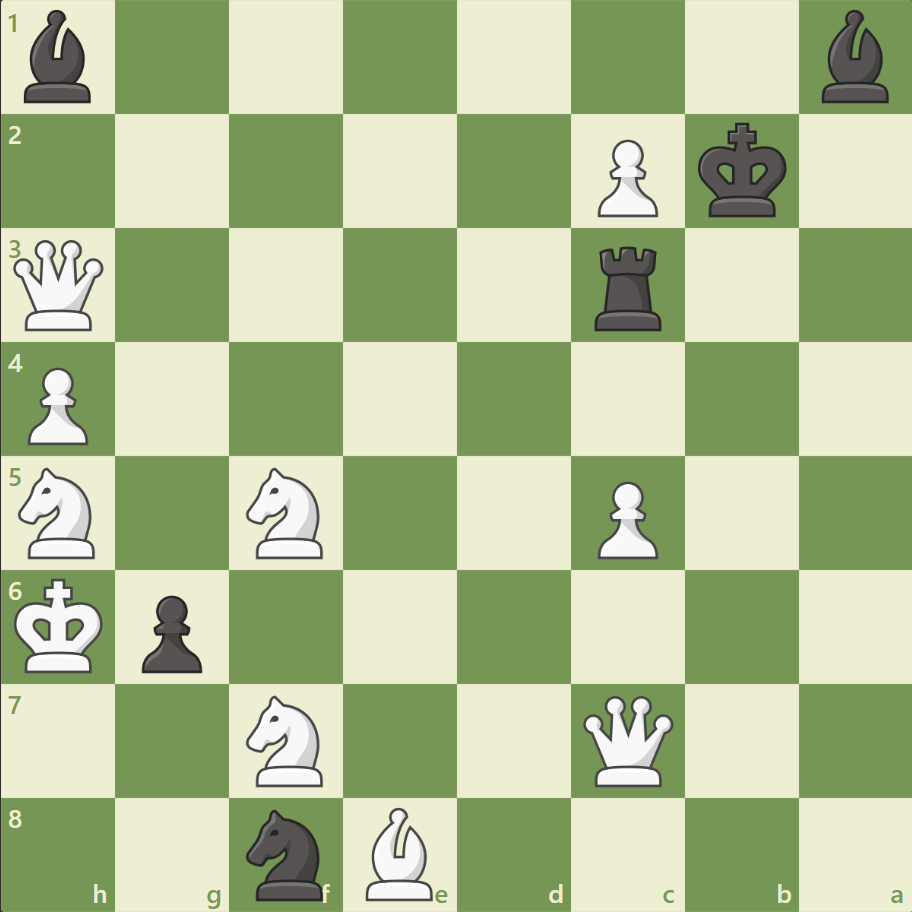B: (358, 801, 442, 904)
K: (11, 571, 111, 679)
N: (238, 688, 335, 791), (238, 461, 335, 564), (11, 461, 108, 564)
P: (20, 359, 95, 450), (588, 473, 662, 564), (588, 132, 662, 223)
Q: (578, 690, 677, 789), (10, 236, 109, 335)
b: (812, 6, 896, 109), (17, 6, 101, 109)
k: (692, 117, 792, 225)
n: (238, 802, 335, 904)
p: (133, 586, 208, 677)
r: (587, 239, 670, 336)
